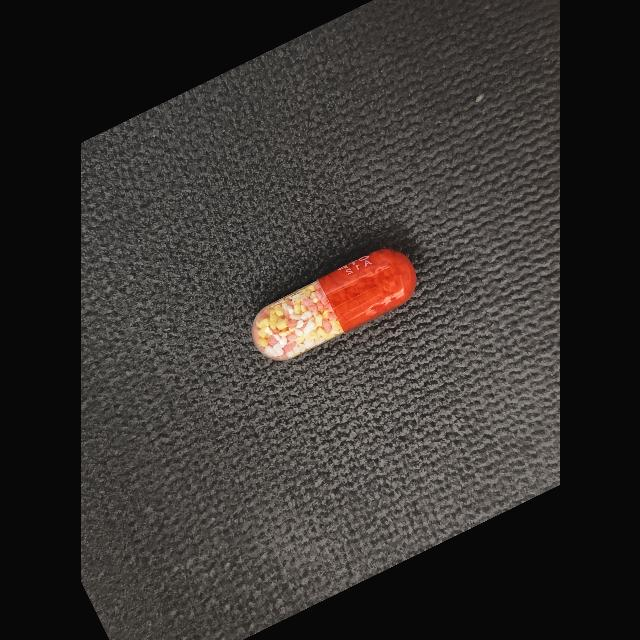Intact Capsule: (251, 249, 417, 361)
